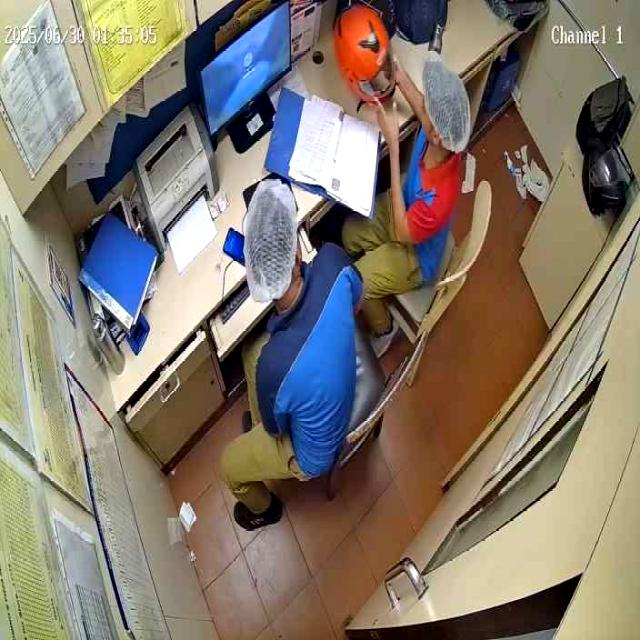helmet: (334, 2, 398, 105), (573, 77, 635, 159), (581, 136, 630, 217)
